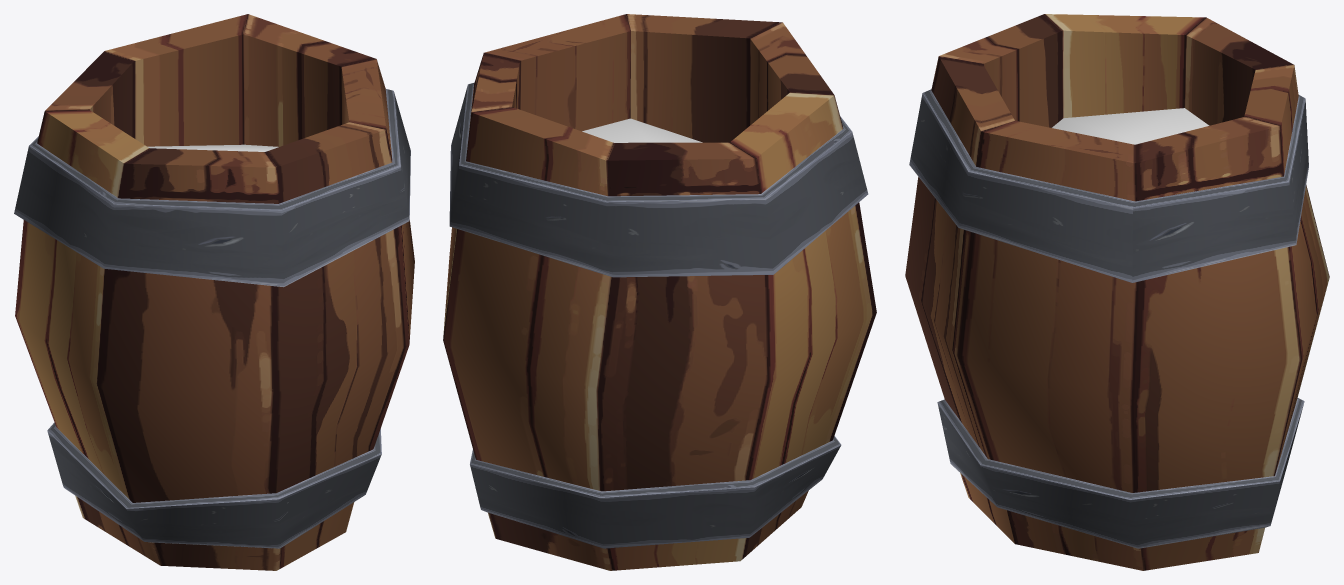
Rendered from SM_PROP_barrel_04.fbx.
The picture shows the model from 3 angles, left to right: view 1: azimuth 30°, elevation 25°; view 2: azimuth 150°, elevation 25°; view 3: azimuth 270°, elevation 25°; orthographic projection. The views are drawn at different scales.
Visible parts, largest first — view 1: SM_PROP_barrel_04; view 2: SM_PROP_barrel_04; view 3: SM_PROP_barrel_04.
Part boxes in pixels (<box>): SM_PROP_barrel_04: <box>14,14,414,570</box>; SM_PROP_barrel_04: <box>443,14,876,570</box>; SM_PROP_barrel_04: <box>905,14,1329,570</box>.
Size of the model in its own units: 77.06 by 84.39 by 74.86.
